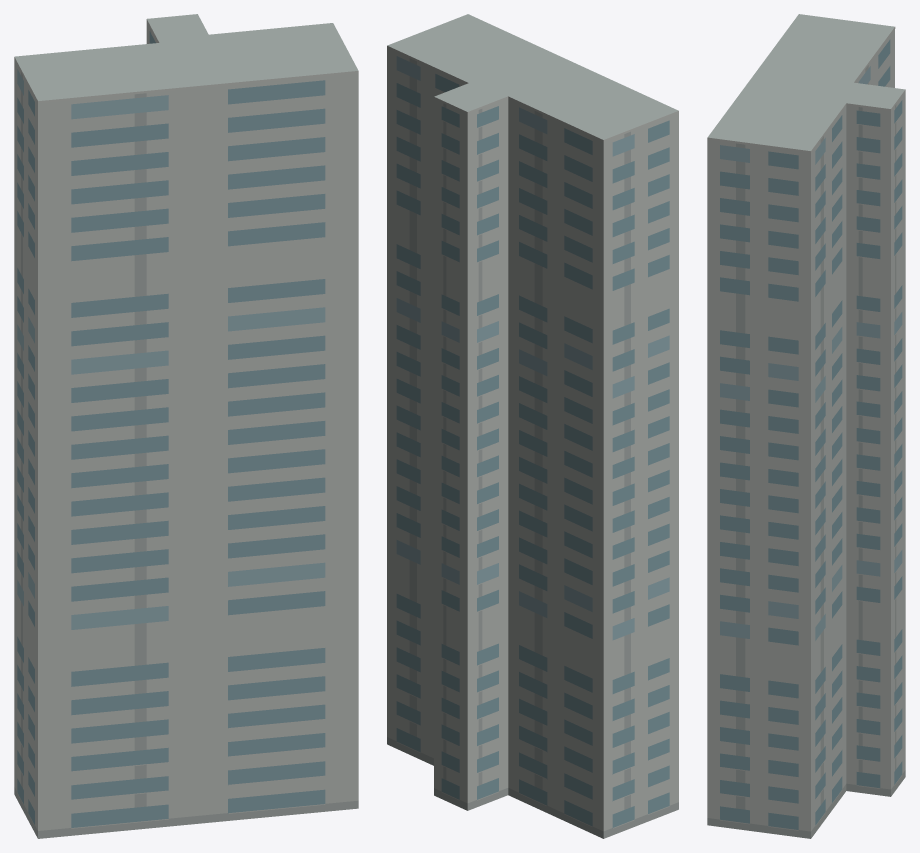
Rendered from residential-788fa279-ab65-4c27-8de1-44ded4e2d293.glb.
The picture shows the model from 3 angles, left to right: view 1: azimuth 30°, elevation 25°; view 2: azimuth 150°, elevation 25°; view 3: azimuth 270°, elevation 25°; orthographic projection. The views are drawn at different scales.
Parts seen in each view (by area): view 1: residential-788fa279-ab65-4c27-8de1-44ded4e2d293.tmp; view 2: residential-788fa279-ab65-4c27-8de1-44ded4e2d293.tmp; view 3: residential-788fa279-ab65-4c27-8de1-44ded4e2d293.tmp.
Boxes of the visible parts, <box> form: residential-788fa279-ab65-4c27-8de1-44ded4e2d293.tmp: <box>14,14,358,838</box>; residential-788fa279-ab65-4c27-8de1-44ded4e2d293.tmp: <box>387,14,678,838</box>; residential-788fa279-ab65-4c27-8de1-44ded4e2d293.tmp: <box>707,14,905,838</box>.
Bounding box in the file's own units: 33.8 × 79 × 20.63.
